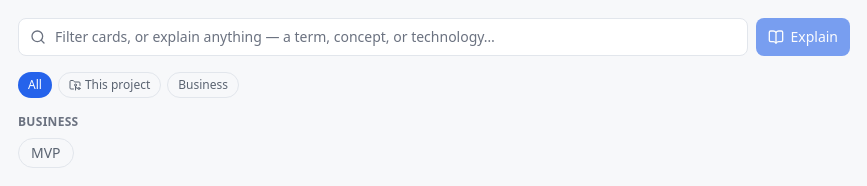
it: UnderstandHub › surfaces an error when generation fails — never silently dead-ends
The width and height of the screenshot is (867, 186).
Check: the button "MVP" is shown, box [18,138,74,168]
Type "Bloom filter" into the field with placeholder "explain anything" at (383, 37), box [18,18,748,56]
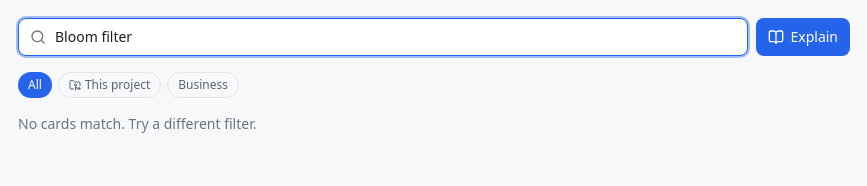
Click the button "Explain" at (803, 37), box [756,18,850,56]
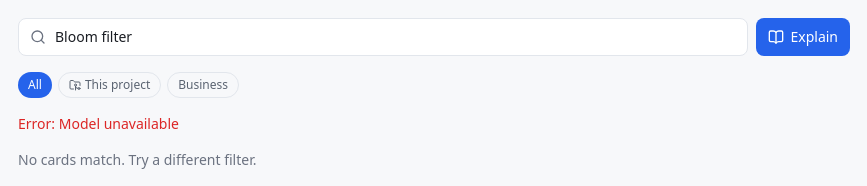
Check: the message shows "Model unavailable", box [18,114,179,133]
